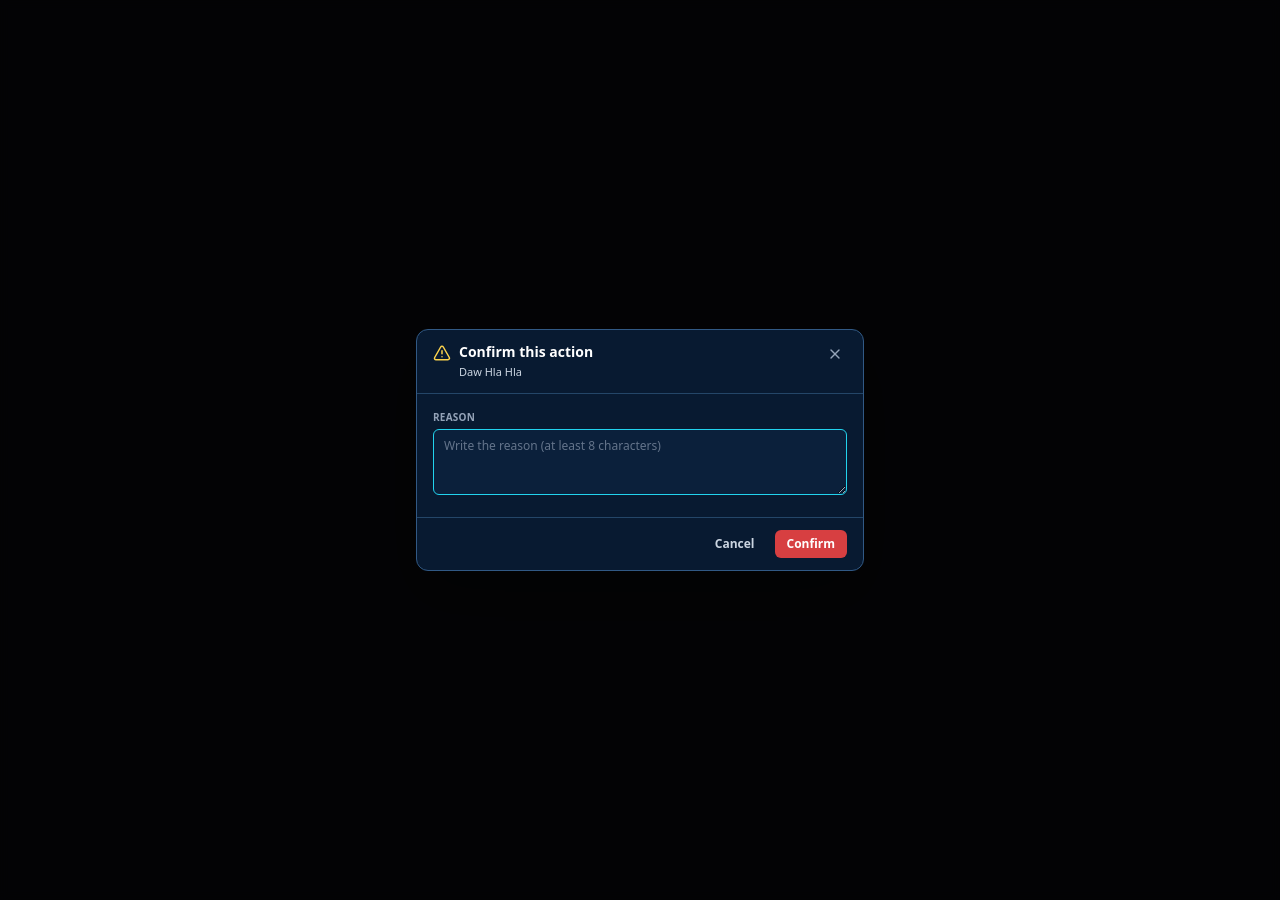
Test: ConfirmDialog › refuses an empty reason and says why
Click the button "Confirm". click: (811, 544)
box: left=774, top=530, right=847, bottom=558
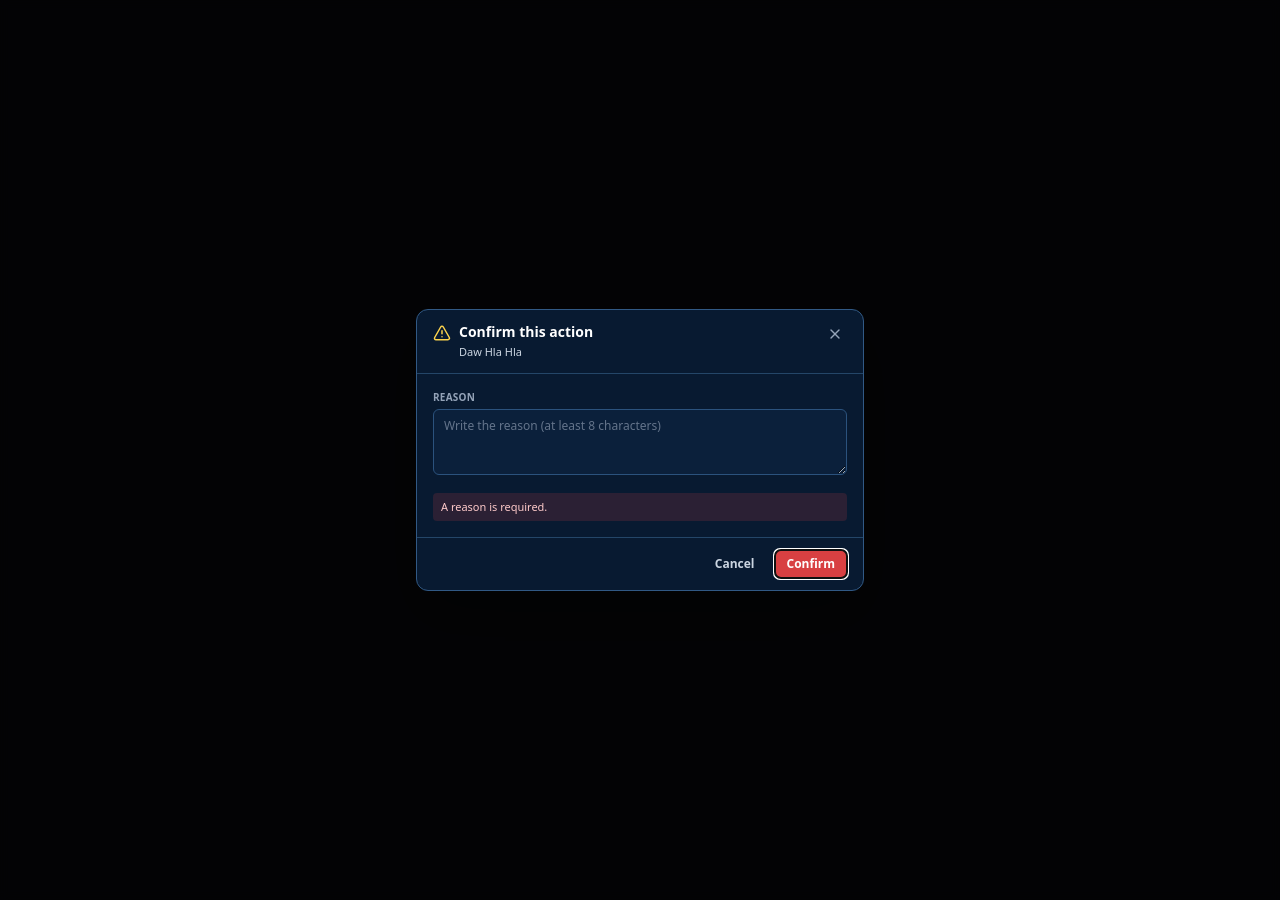
expect the message reads "A reason is required.": met, box left=441, top=498, right=547, bottom=514
